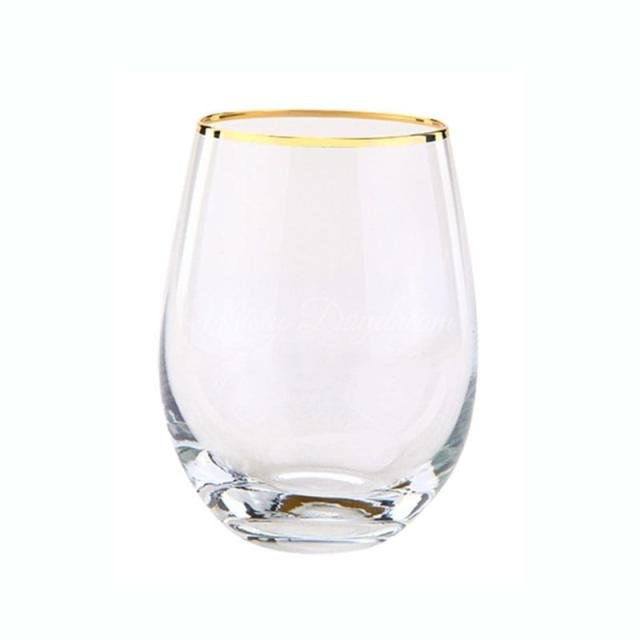Cup: (155, 101, 481, 559)
